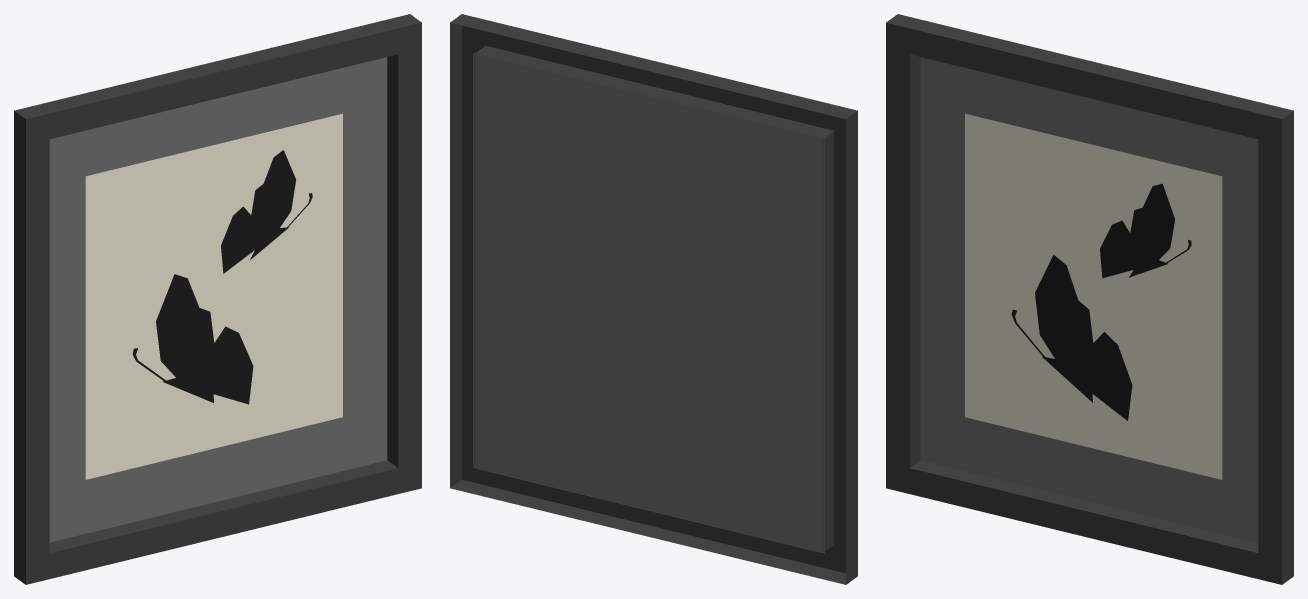
Rendered from picture_018.glb.
3 views of the same model, side by side, from view 1: azimuth 30°, elevation 25°; view 2: azimuth 150°, elevation 25°; view 3: azimuth 330°, elevation 25° (orthographic).
Parts seen in each view (by area): view 1: picture_018; view 2: picture_018; view 3: picture_018.
Part boxes in pixels (box(x1,y1,x2,y2)): picture_018: box(14, 14, 421, 584); picture_018: box(450, 14, 857, 584); picture_018: box(886, 14, 1293, 584).
Bounding box in the file's own units: 0.3473 × 0.3903 × 0.0179.
1 material, 1 textured.
